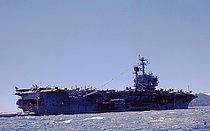MIL_Ship: (14, 54, 198, 113)
